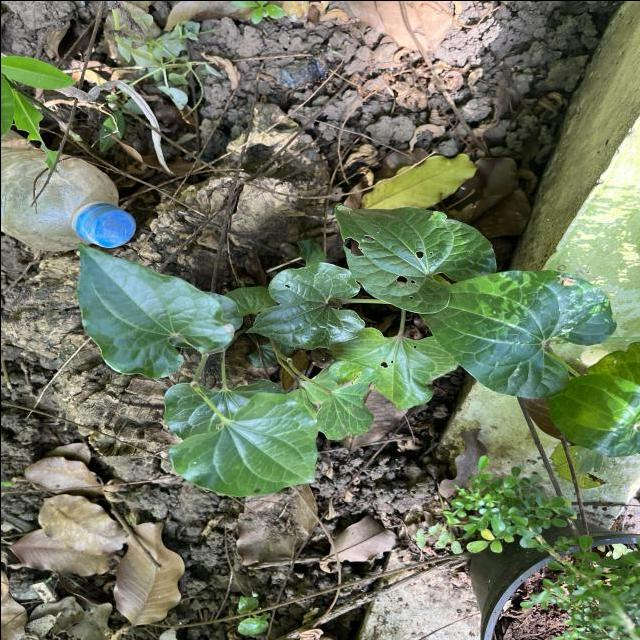Piper longum: (416, 266, 618, 401), (242, 258, 366, 352)
